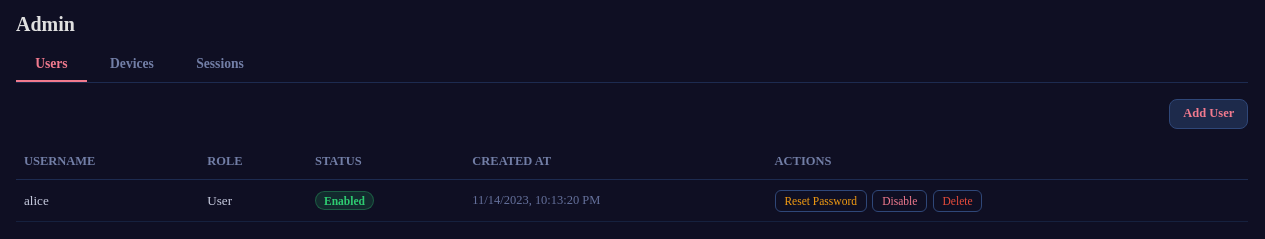
Test: AdminPage › delete user › shows error when deletion fails
Expected: the text "alice" is shown, [16,180,199,222]
What coordinates should you click on to do the following:
click the button "Delete"
I would click on:
 (958, 201)
Its box is [933,190,982,212].
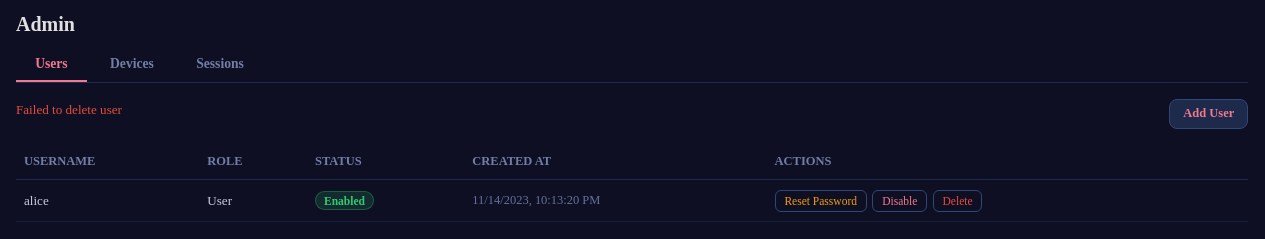
Now the text "Failed to delete user" is shown, box [16,102,122,118]
